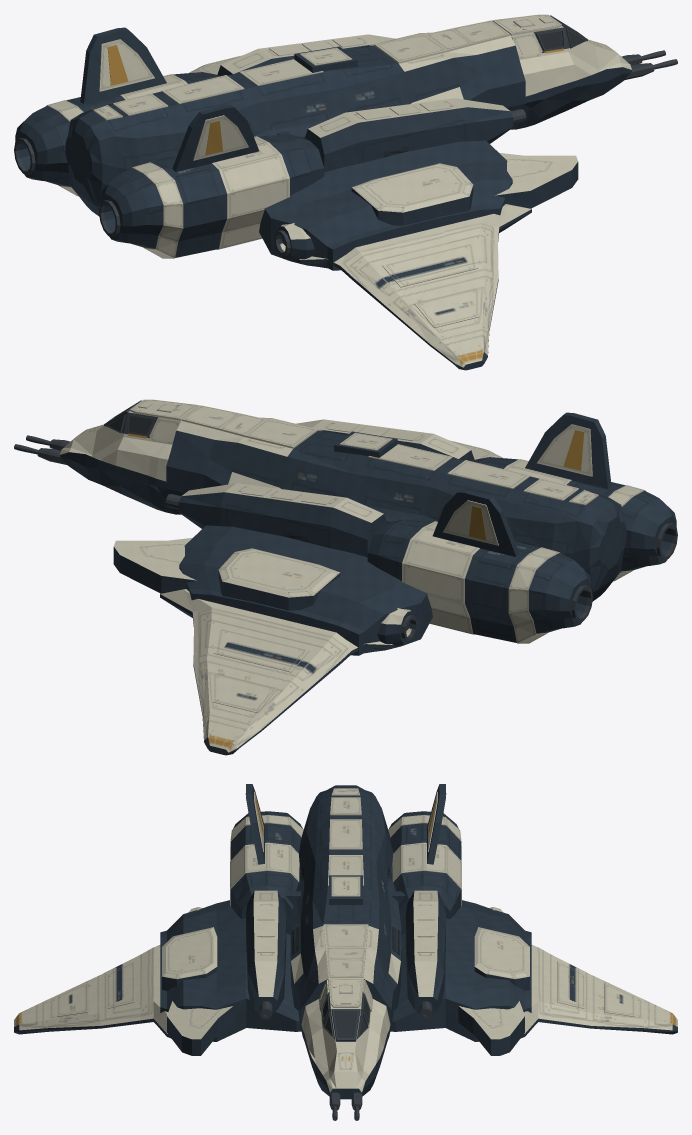
The model's file is lancer.glb.
3 renders of one model, top to bottom at view 1: azimuth 30°, elevation 25°; view 2: azimuth 150°, elevation 25°; view 3: azimuth 270°, elevation 25°, orthographic. The views are drawn at different scales.
Parts seen in each view (by area): view 1: 01 Central hull, 07 Port wing root, 11 Port main engine, 05 Port swept wing, 17 Port shoulder weapons, 02 Cockpit and bow, 12 Starboard main engine, 16 Starboard stabilizer, 15 Port stabilizer, 09 Port forward boom, 18 Starboard shoulder weapons, 04 Dorsal avionics (+1 smaller); view 2: 01 Central hull, 08 Starboard wing root, 12 Starboard main engine, 06 Starboard swept wing, 18 Starboard shoulder weapons, 02 Cockpit and bow, 11 Port main engine, 15 Port stabilizer, 16 Starboard stabilizer, 10 Starboard forward boom, 17 Port shoulder weapons, 04 Dorsal avionics (+1 smaller); view 3: 01 Central hull, 07 Port wing root, 08 Starboard wing root, 02 Cockpit and bow, 05 Port swept wing, 06 Starboard swept wing, 11 Port main engine, 12 Starboard main engine, 17 Port shoulder weapons, 18 Starboard shoulder weapons, 09 Port forward boom, 10 Starboard forward boom (+4 smaller).
Boxes of the visible parts, x1,y1,x2,y2 form: 01 Central hull: [65, 20, 525, 216]; 07 Port wing root: [259, 140, 512, 270]; 11 Port main engine: [99, 131, 324, 258]; 05 Port swept wing: [296, 204, 531, 370]; 17 Port shoulder weapons: [305, 98, 526, 172]; 02 Cockpit and bow: [492, 14, 631, 129]; 12 Starboard main engine: [14, 72, 219, 196]; 16 Starboard stabilizer: [80, 27, 166, 103]; 15 Port stabilizer: [172, 104, 259, 171]; 09 Port forward boom: [495, 153, 578, 208]; 18 Starboard shoulder weapons: [217, 34, 395, 76]; 04 Dorsal avionics: [294, 46, 357, 72]; 01 Central hull: [166, 405, 626, 601]; 08 Starboard wing root: [179, 525, 432, 655]; 12 Starboard main engine: [367, 516, 592, 643]; 06 Starboard swept wing: [160, 589, 395, 755]; 18 Starboard shoulder weapons: [165, 483, 386, 557]; 02 Cockpit and bow: [60, 399, 199, 514]; 11 Port main engine: [472, 457, 677, 581]; 15 Port stabilizer: [525, 412, 611, 488]; 16 Starboard stabilizer: [432, 489, 519, 556]; 10 Starboard forward boom: [113, 538, 196, 593]; 17 Port shoulder weapons: [296, 419, 474, 461]; 04 Dorsal avionics: [334, 431, 397, 457]; 01 Central hull: [290, 785, 401, 1030]; 07 Port wing root: [160, 900, 301, 1041]; 08 Starboard wing root: [390, 900, 531, 1041]; 02 Cockpit and bow: [301, 977, 390, 1099]; 05 Port swept wing: [14, 945, 171, 1038]; 06 Starboard swept wing: [520, 945, 677, 1038]; 11 Port main engine: [230, 811, 303, 934]; 12 Starboard main engine: [388, 811, 461, 934]; 17 Port shoulder weapons: [246, 890, 286, 1019]; 18 Starboard shoulder weapons: [405, 890, 445, 1019]; 09 Port forward boom: [167, 1001, 233, 1055]; 10 Starboard forward boom: [458, 1001, 524, 1055].
Size of the model in its own units: 1.93 by 0.602 by 2.
Materials: 2 (1 with a texture image).
